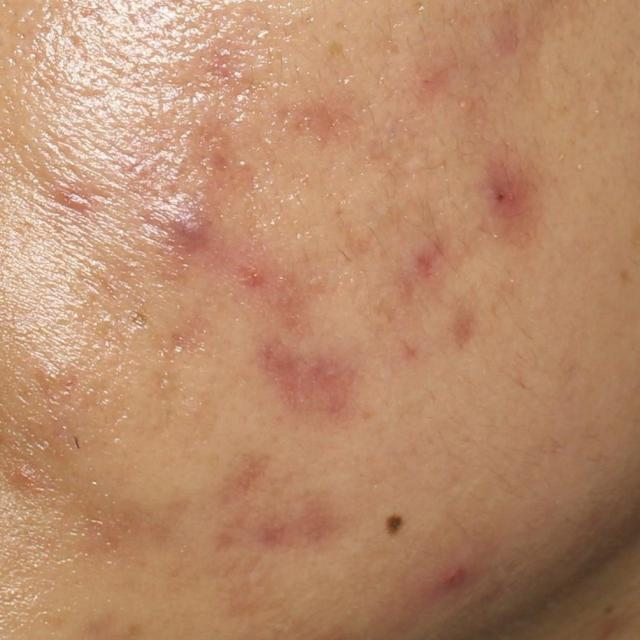blackhead: (130, 313, 147, 327)
